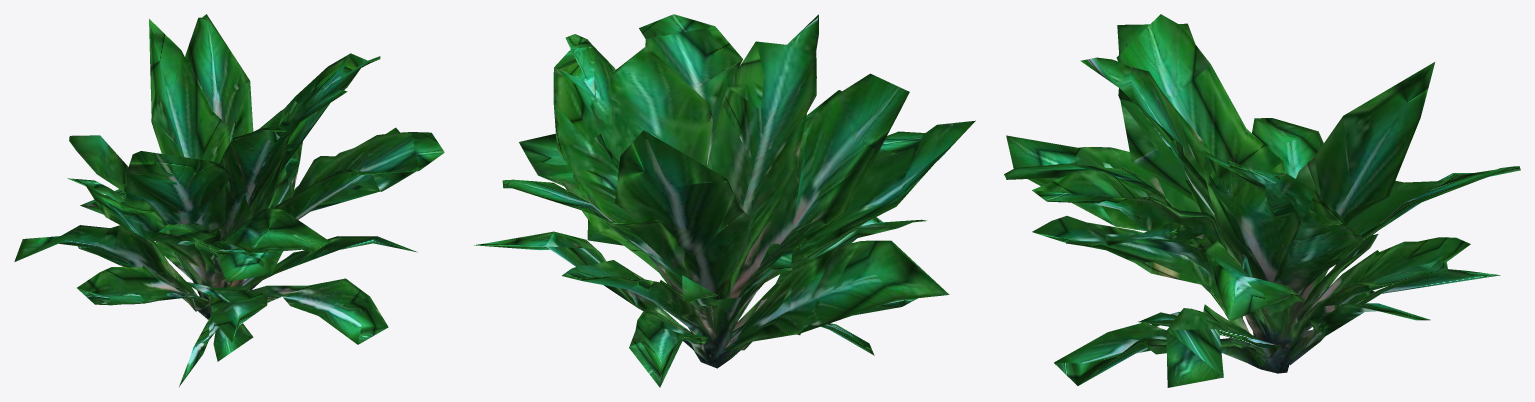
Rendered from l_plant_jungle1.glb.
3 renders of one model, left to right at view 1: azimuth 30°, elevation 25°; view 2: azimuth 150°, elevation 25°; view 3: azimuth 270°, elevation 25°, orthographic. The views are drawn at different scales.
Bounding box in the file's own units: 0.9409 × 0.5953 × 0.876.
Materials: 1 (1 with a texture image).
